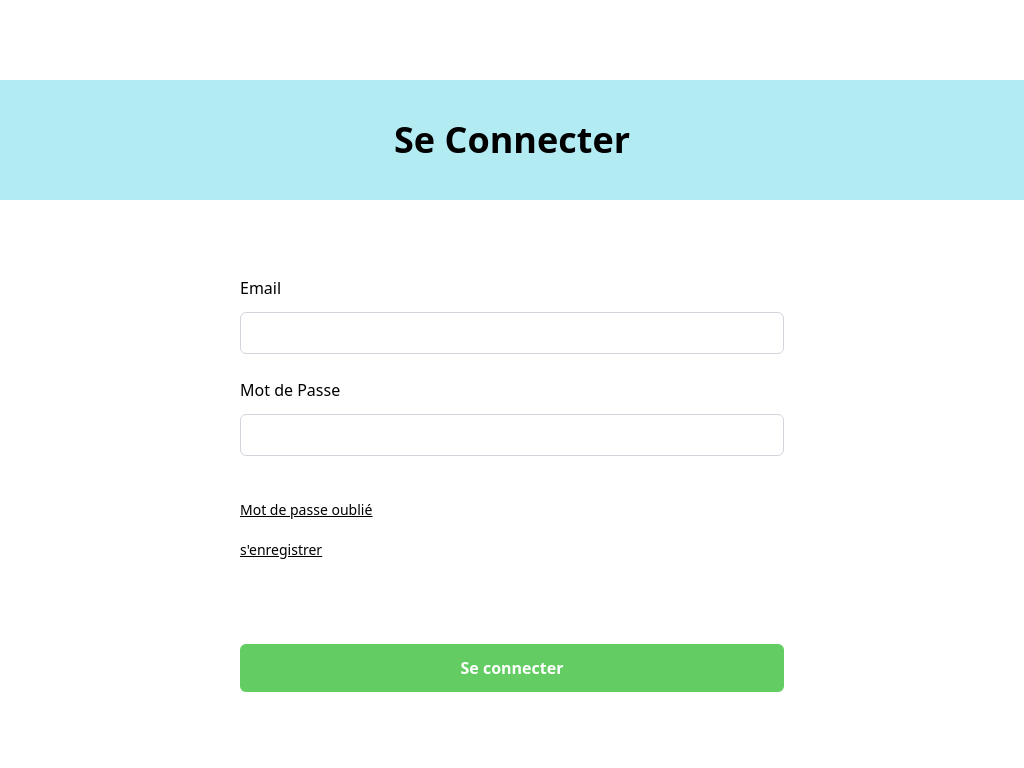
should redirect to home › should show email and password required
The image size is (1024, 768).
Click the submit button. click: (512, 668)
box: [240,644,784,692]
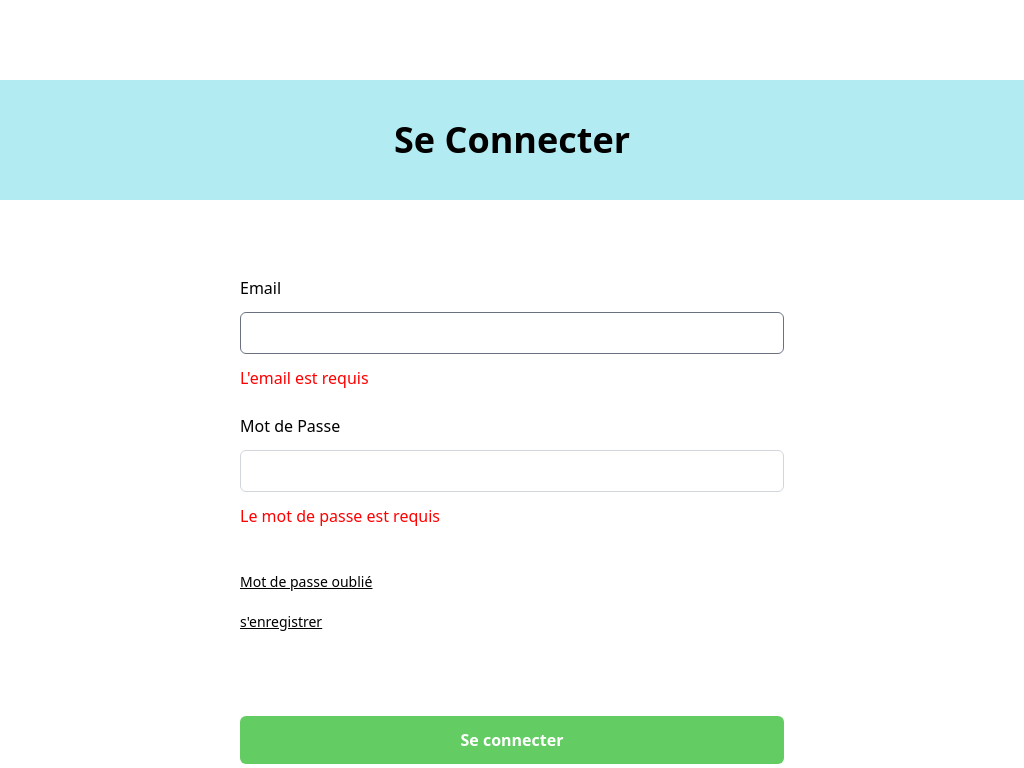
Now the number of elements with test id "log" is 2, box [240,367,369,389]; [240,505,440,527]
